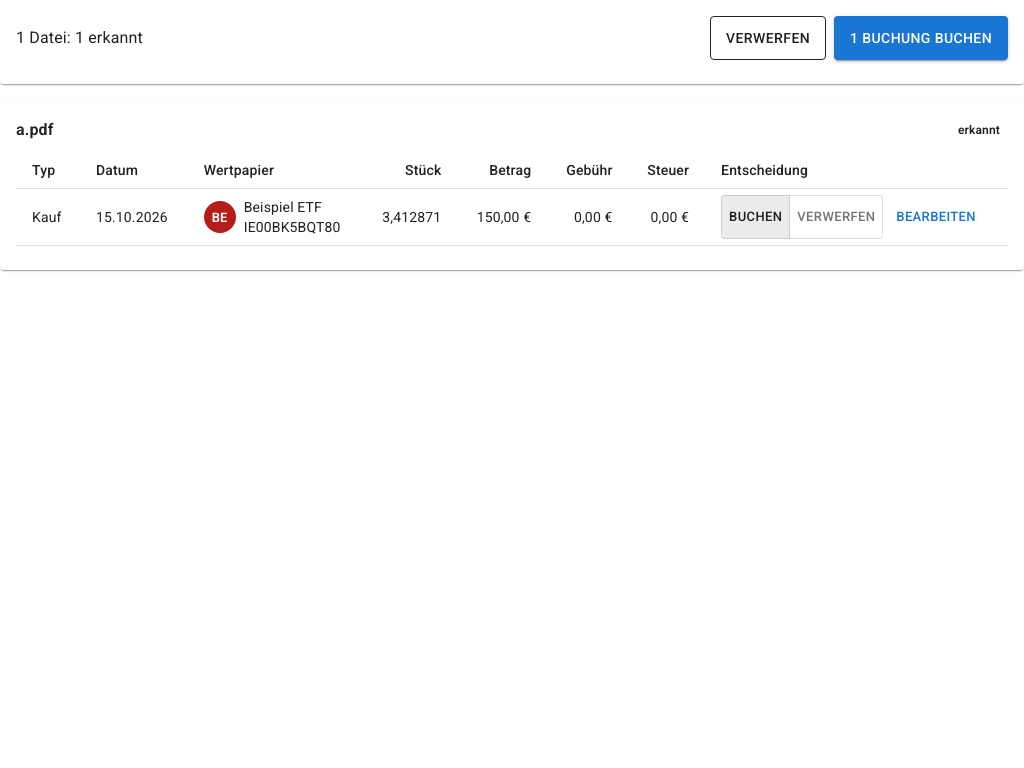
ImportReview › books with the shown keys and shows the snackbar
Click the button "1 Buchung buchen" at (921, 38), box [834,16,1008,60]
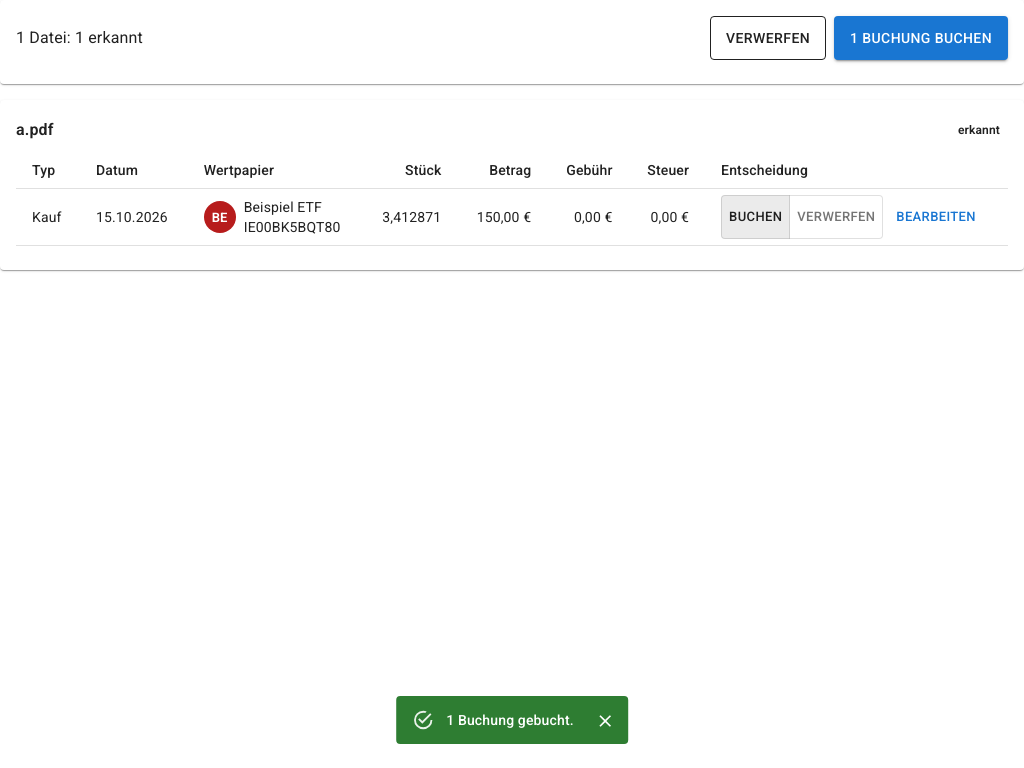
Result: the message reads "1 Buchung gebucht." at [446,712,574,728]
